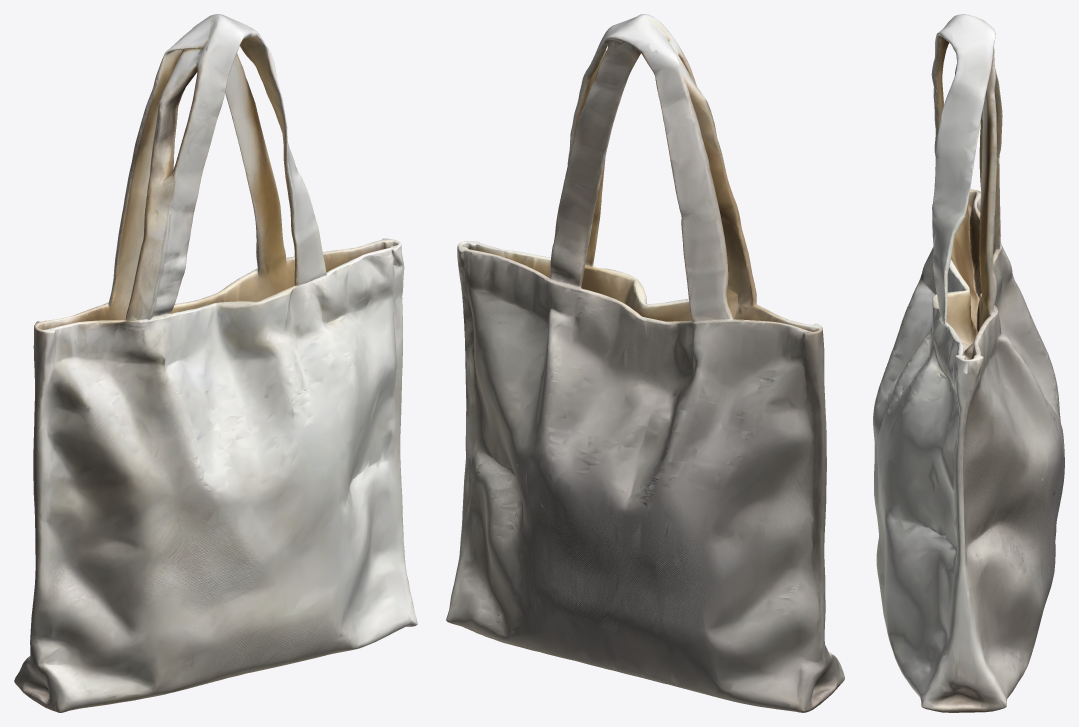
The model's file is tote.glb.
The picture shows the model from 3 angles, left to right: view 1: azimuth 30°, elevation 25°; view 2: azimuth 150°, elevation 25°; view 3: azimuth 270°, elevation 25°; orthographic projection. The views are drawn at different scales.
Parts seen in each view (by area): view 1: model; view 2: model; view 3: model.
Boxes of the visible parts, bbox=[...] form: model: bbox=[14, 14, 417, 712]; model: bbox=[446, 14, 844, 712]; model: bbox=[873, 14, 1064, 712].
Bounding box in the file's own units: 0.2274 × 0.3799 × 0.1068.
Materials: 1 (1 with a texture image).
